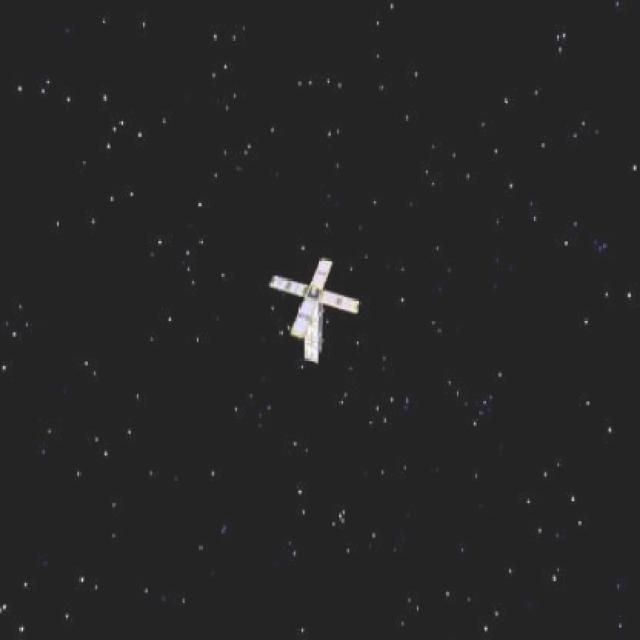satellite: (254, 254, 376, 373)
